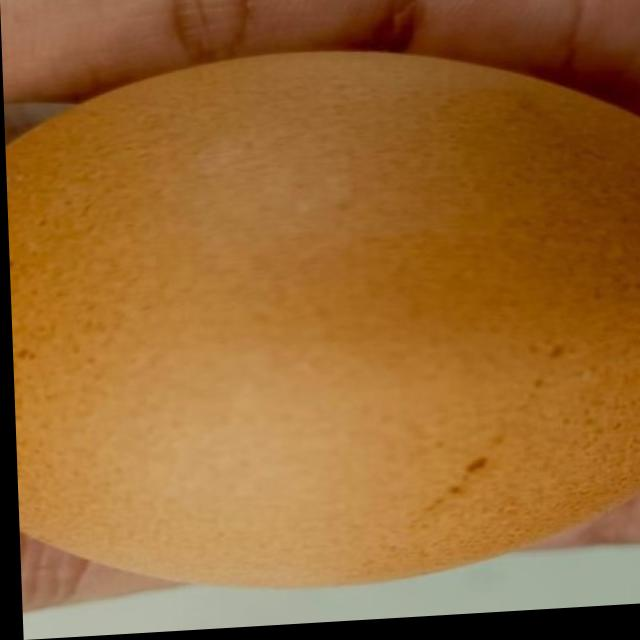unfresh: (2, 30, 640, 612)
